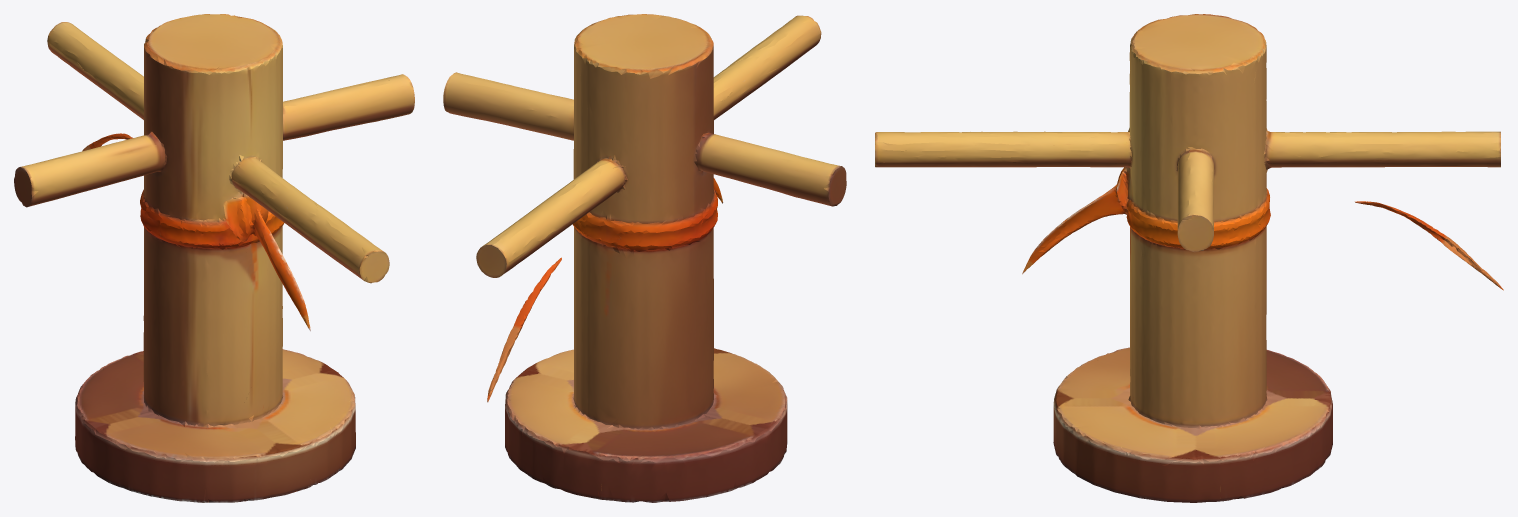
The model's file is Station_CombatRig.glb.
3 views of the same model, side by side, from view 1: azimuth 30°, elevation 25°; view 2: azimuth 150°, elevation 25°; view 3: azimuth 270°, elevation 25° (orthographic).
Parts seen in each view (by area): view 1: Station_CombatRig_v2; view 2: Station_CombatRig_v2; view 3: Station_CombatRig_v2.
Boxes of the visible parts, box(x1,y1,x2,y2) form: Station_CombatRig_v2: box(14, 14, 414, 502); Station_CombatRig_v2: box(443, 14, 846, 502); Station_CombatRig_v2: box(875, 14, 1503, 502).
Size of the model in its own units: 1.5 by 1.5 by 2.13.
Materials: 1 (1 with a texture image).
